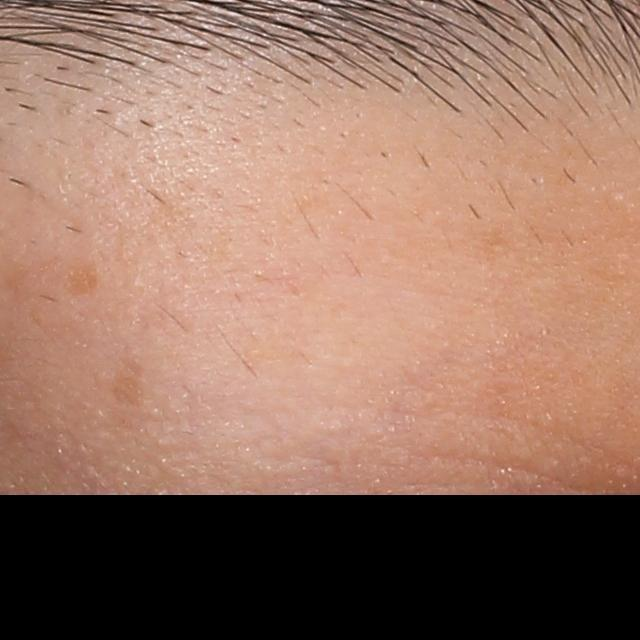melasma: (111, 358, 149, 410), (61, 257, 105, 300)
